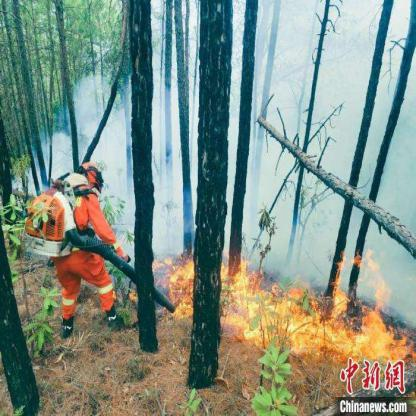fire: (222, 246, 413, 362), (151, 232, 194, 318)
